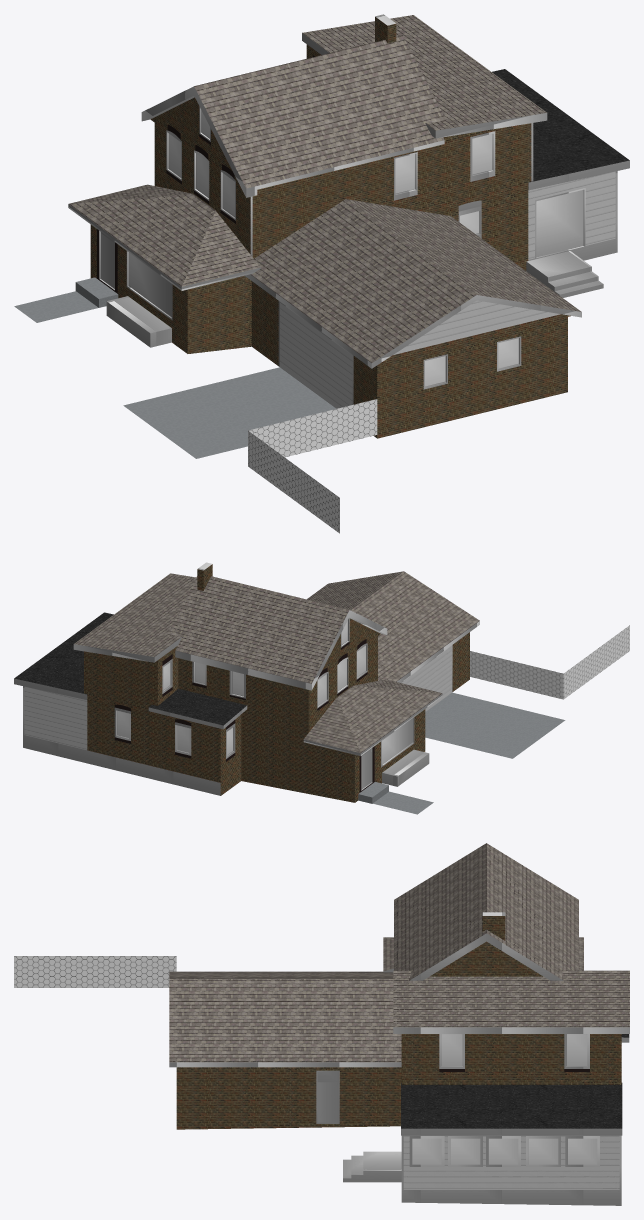
The model's file is house.obj.
3 renders of one model, top to bottom at view 1: azimuth 30°, elevation 25°; view 2: azimuth 150°, elevation 25°; view 3: azimuth 270°, elevation 25°, orthographic. The views are drawn at different scales.
Visible parts, largest first — view 1: Mesh28 ce51dbc9_98ef_40b1_a90e_adfcf5fcb09a1 Model, Mesh3 Group61_1_1 ce51dbc9_98ef_40b1_a90e_adfcf5fcb09a1 Model, Mesh2 Group59_1_1 ce51dbc9_98ef_40b1_a90e_adfcf5fcb09a1 Model, Mesh33 ce51dbc9_98ef_40b1_a90e_adfcf5fcb09a1 Model, Mesh14 Group113_1_1 ce51dbc9_98ef_40b1_a90e_adfcf5fcb09a1 Model, Mesh4 Group74_1_1 ce51dbc9_98ef_40b1_a90e_adfcf5fcb09a1 Model, Mesh17 Group120_1_1 ce51dbc9_98ef_40b1_a90e_adfcf5fcb09a1 Model; view 2: Mesh28 ce51dbc9_98ef_40b1_a90e_adfcf5fcb09a1 Model, Mesh2 Group59_1_1 ce51dbc9_98ef_40b1_a90e_adfcf5fcb09a1 Model, Mesh33 ce51dbc9_98ef_40b1_a90e_adfcf5fcb09a1 Model, Mesh4 Group74_1_1 ce51dbc9_98ef_40b1_a90e_adfcf5fcb09a1 Model; view 3: Mesh28 ce51dbc9_98ef_40b1_a90e_adfcf5fcb09a1 Model, Mesh5 Group82_1_1 ce51dbc9_98ef_40b1_a90e_adfcf5fcb09a1 Model, Mesh8 Group92_1_1 ce51dbc9_98ef_40b1_a90e_adfcf5fcb09a1 Model, Mesh9 Group94_1_1 ce51dbc9_98ef_40b1_a90e_adfcf5fcb09a1 Model, Mesh10 Group96_1_1 ce51dbc9_98ef_40b1_a90e_adfcf5fcb09a1 Model, Mesh7 Group90_1_1 ce51dbc9_98ef_40b1_a90e_adfcf5fcb09a1 Model, Mesh6 Group88_1_1 ce51dbc9_98ef_40b1_a90e_adfcf5fcb09a1 Model, Mesh15 Group115_1_1 ce51dbc9_98ef_40b1_a90e_adfcf5fcb09a1 Model, Mesh16 Group117_1_1 ce51dbc9_98ef_40b1_a90e_adfcf5fcb09a1 Model.
Boxes of the visible parts, bbox=[...] form: Mesh28 ce51dbc9_98ef_40b1_a90e_adfcf5fcb09a1 Model: bbox=[68, 14, 629, 533]; Mesh3 Group61_1_1 ce51dbc9_98ef_40b1_a90e_adfcf5fcb09a1 Model: bbox=[536, 190, 583, 257]; Mesh2 Group59_1_1 ce51dbc9_98ef_40b1_a90e_adfcf5fcb09a1 Model: bbox=[129, 252, 171, 316]; Mesh33 ce51dbc9_98ef_40b1_a90e_adfcf5fcb09a1 Model: bbox=[14, 291, 98, 322]; Mesh14 Group113_1_1 ce51dbc9_98ef_40b1_a90e_adfcf5fcb09a1 Model: bbox=[472, 134, 491, 174]; Mesh4 Group74_1_1 ce51dbc9_98ef_40b1_a90e_adfcf5fcb09a1 Model: bbox=[100, 232, 114, 288]; Mesh17 Group120_1_1 ce51dbc9_98ef_40b1_a90e_adfcf5fcb09a1 Model: bbox=[395, 154, 414, 193]; Mesh28 ce51dbc9_98ef_40b1_a90e_adfcf5fcb09a1 Model: bbox=[14, 562, 629, 803]; Mesh2 Group59_1_1 ce51dbc9_98ef_40b1_a90e_adfcf5fcb09a1 Model: bbox=[381, 718, 412, 764]; Mesh33 ce51dbc9_98ef_40b1_a90e_adfcf5fcb09a1 Model: bbox=[373, 791, 433, 814]; Mesh4 Group74_1_1 ce51dbc9_98ef_40b1_a90e_adfcf5fcb09a1 Model: bbox=[361, 748, 371, 789]; Mesh28 ce51dbc9_98ef_40b1_a90e_adfcf5fcb09a1 Model: bbox=[14, 843, 629, 1205]; Mesh5 Group82_1_1 ce51dbc9_98ef_40b1_a90e_adfcf5fcb09a1 Model: bbox=[317, 1072, 338, 1122]; Mesh8 Group92_1_1 ce51dbc9_98ef_40b1_a90e_adfcf5fcb09a1 Model: bbox=[528, 1138, 558, 1164]; Mesh9 Group94_1_1 ce51dbc9_98ef_40b1_a90e_adfcf5fcb09a1 Model: bbox=[450, 1138, 480, 1164]; Mesh10 Group96_1_1 ce51dbc9_98ef_40b1_a90e_adfcf5fcb09a1 Model: bbox=[488, 1138, 518, 1164]; Mesh7 Group90_1_1 ce51dbc9_98ef_40b1_a90e_adfcf5fcb09a1 Model: bbox=[412, 1138, 441, 1164]; Mesh6 Group88_1_1 ce51dbc9_98ef_40b1_a90e_adfcf5fcb09a1 Model: bbox=[568, 1138, 597, 1164]; Mesh15 Group115_1_1 ce51dbc9_98ef_40b1_a90e_adfcf5fcb09a1 Model: bbox=[567, 1034, 587, 1065]; Mesh16 Group117_1_1 ce51dbc9_98ef_40b1_a90e_adfcf5fcb09a1 Model: bbox=[442, 1034, 462, 1065].
Size of the model in its own units: 809 by 349 by 909.
